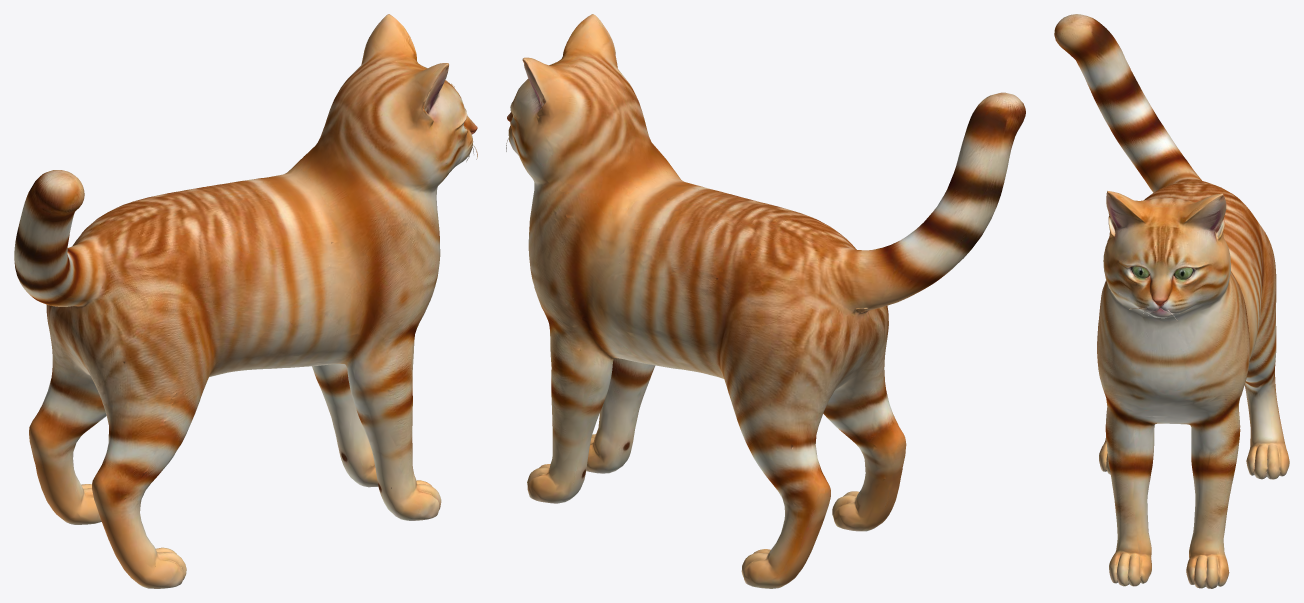
The model's file is NOSTROMCAT.glb.
3 renders of one model, left to right at view 1: azimuth 30°, elevation 25°; view 2: azimuth 150°, elevation 25°; view 3: azimuth 270°, elevation 25°, orthographic. The views are drawn at different scales.
Parts seen in each view (by area): view 1: fit; view 2: fit; view 3: fit.
Part boxes in pixels (x1=…): fit: x1=14, y1=14, x2=477, y2=588; fit: x1=506, y1=14, x2=1025, y2=588; fit: x1=1054, y1=14, x2=1289, y2=588.
Bounding box in the file's own units: 1.11 × 0.9999 × 0.5352.
Materials: 1 (1 with a texture image).
